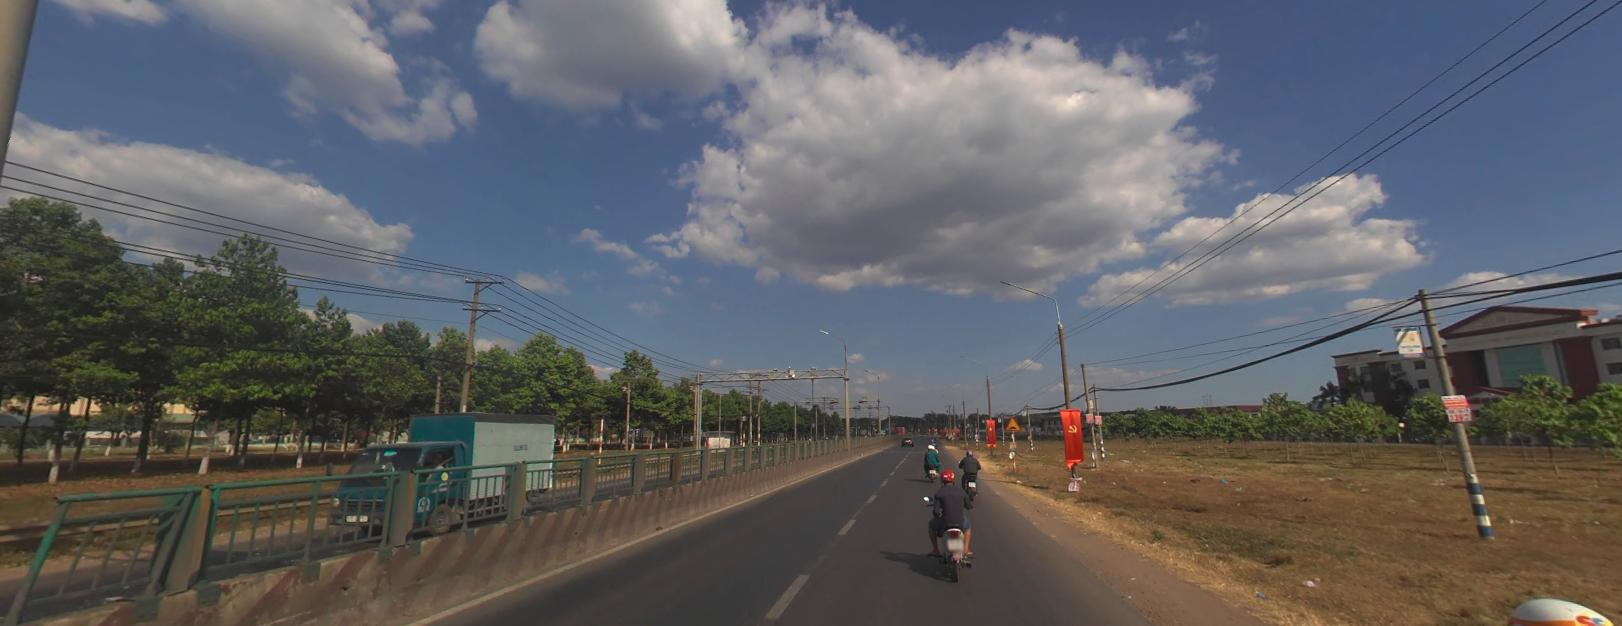Nguy hiem: (1004, 413, 1021, 429)
